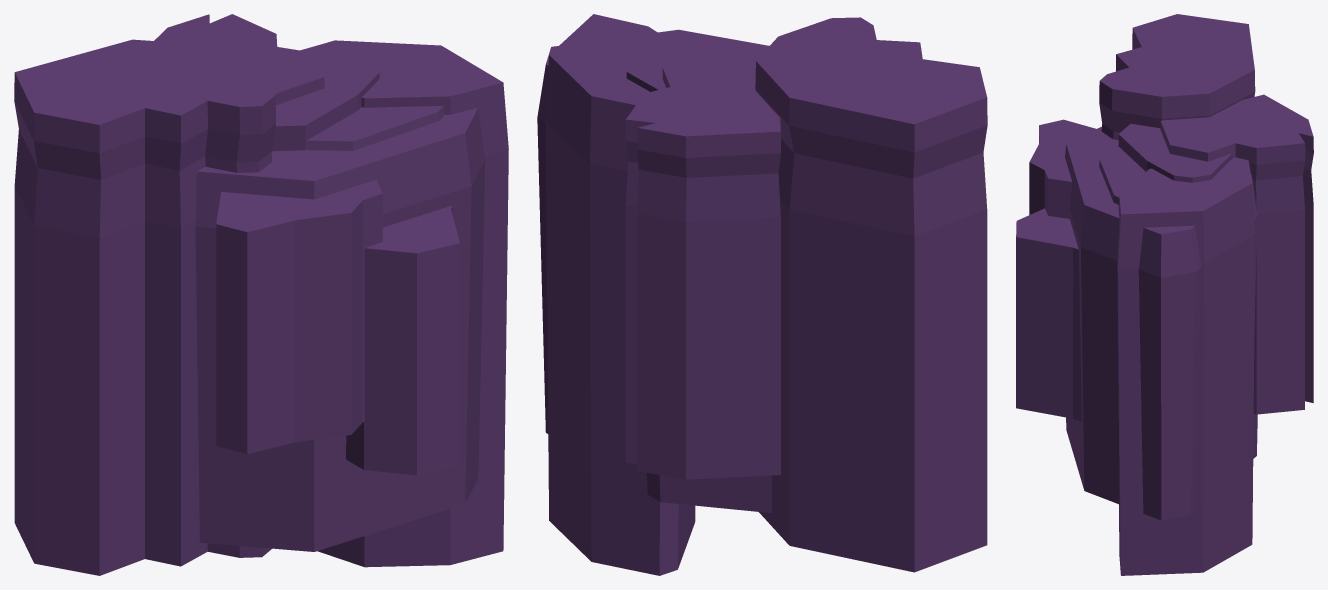
The model's file is Rock_2.fbx.
3 renders of one model, left to right at view 1: azimuth 30°, elevation 25°; view 2: azimuth 150°, elevation 25°; view 3: azimuth 270°, elevation 25°, orthographic. The views are drawn at different scales.
Parts seen in each view (by area): view 1: rock_model.025; view 2: rock_model.025; view 3: rock_model.025.
Part boxes in pixels (bbox=[...]): rock_model.025: bbox=[14, 14, 508, 575]; rock_model.025: bbox=[537, 14, 987, 575]; rock_model.025: bbox=[1016, 14, 1313, 575].
Size of the model in its own units: 257 by 278 by 188.
